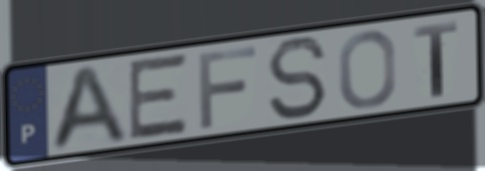A: (45, 61, 133, 155)
E: (126, 50, 191, 143)
F: (195, 43, 260, 132)
O: (336, 28, 399, 112)
S: (264, 35, 330, 123)
T: (412, 19, 460, 100)
